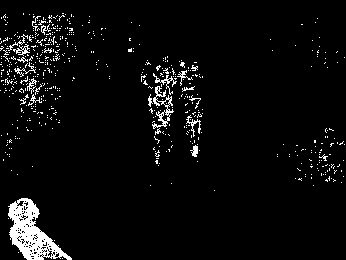person: (146, 81, 174, 166), (182, 81, 206, 163)
